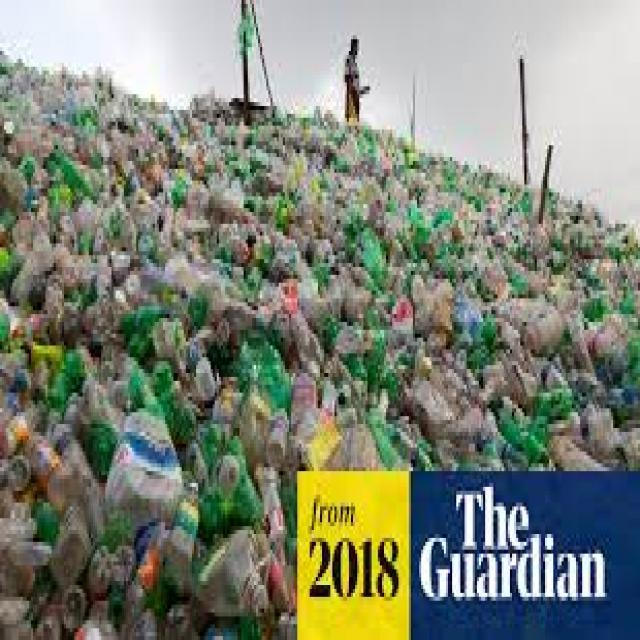heap: (86, 119, 449, 433)
